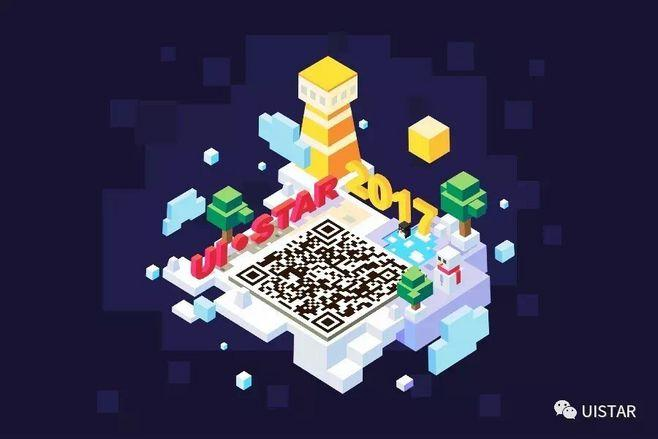QRCode: (236, 218, 421, 331)
